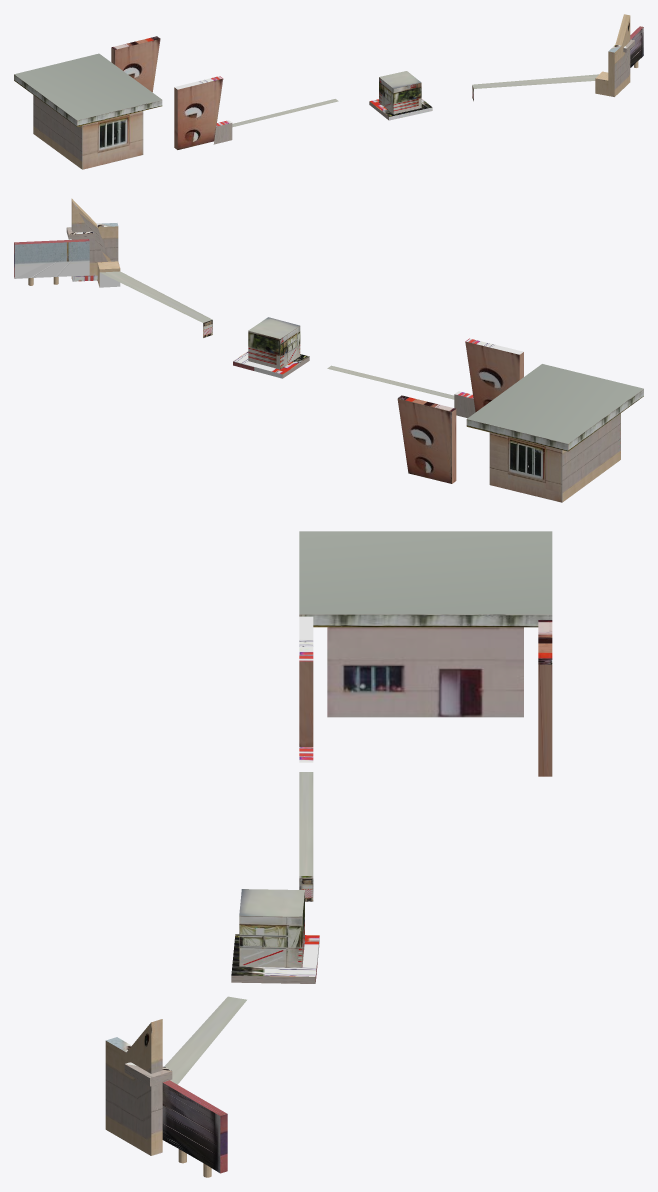
3 renders of one model, top to bottom at view 1: azimuth 30°, elevation 25°; view 2: azimuth 150°, elevation 25°; view 3: azimuth 270°, elevation 25°, orthographic. The views are drawn at different scales.
Parts seen in each view (by area): view 1: Mesh04#2, Mesh03#2, Mesh05#2, skp816E, Mesh01#5, Mesh06#1; view 2: Mesh04#2, Mesh03#2, skp816E, Mesh01#5, Mesh05#2, Mesh06#1; view 3: Mesh04#2, Mesh03#2, Mesh01#5, skp816E, Mesh05#2, Mesh06#1.
Boxes of the visible parts, bbox=[...] form: Mesh04#2: bbox=[14, 53, 162, 126]; Mesh03#2: bbox=[33, 95, 143, 169]; Mesh05#2: bbox=[174, 76, 338, 149]; skp816E: bbox=[111, 36, 421, 114]; Mesh01#5: bbox=[472, 14, 643, 101]; Mesh06#1: bbox=[369, 99, 432, 120]; Mesh04#2: bbox=[466, 364, 643, 451]; Mesh03#2: bbox=[489, 413, 620, 502]; skp816E: bbox=[248, 317, 456, 483]; Mesh01#5: bbox=[14, 198, 212, 337]; Mesh05#2: bbox=[327, 338, 523, 418]; Mesh06#1: bbox=[233, 351, 309, 378]; Mesh04#2: bbox=[299, 531, 552, 627]; Mesh03#2: bbox=[327, 627, 523, 717]; Mesh01#5: bbox=[105, 996, 246, 1177]; skp816E: bbox=[239, 620, 552, 967]; Mesh05#2: bbox=[299, 616, 313, 901]; Mesh06#1: bbox=[231, 934, 319, 983].
Bounding box in the file's own units: 0.0449 × 0.00526 × 0.0159.
Materials: 3 (2 with a texture image).
